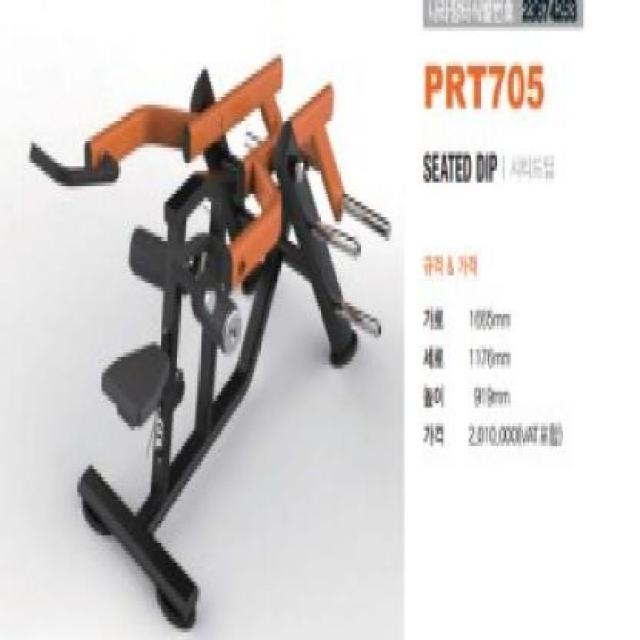seated dip machine: (29, 58, 397, 640)
